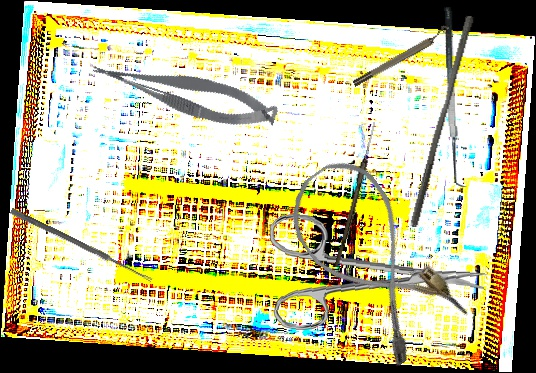Cannula: (273, 147, 472, 370)
Fixation Ring: (349, 23, 454, 89)
Iris Scissors: (263, 212, 491, 343)
Micro Scissor: (88, 38, 282, 145)
Pusher: (409, 13, 475, 230)
Spatula Surgical: (443, 6, 471, 188)
Surgical Spoon: (9, 207, 154, 284), (334, 120, 378, 269)
